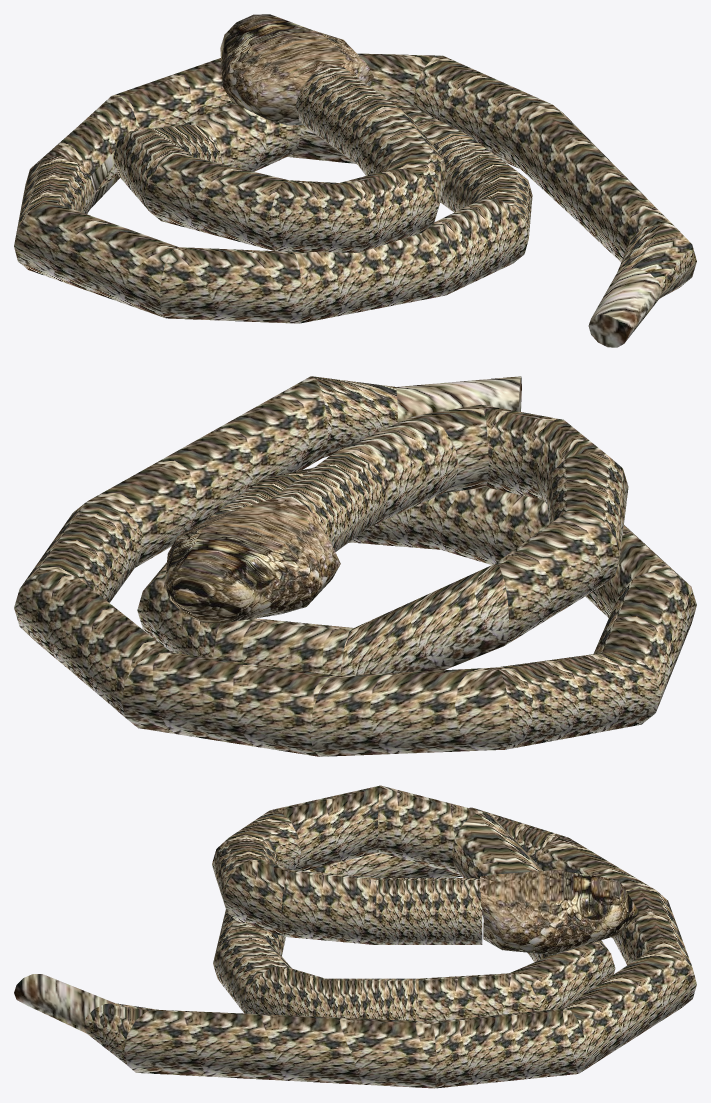
Rendered from snake.fbx.
3 views of the same model, one above another, from view 1: azimuth 30°, elevation 25°; view 2: azimuth 150°, elevation 25°; view 3: azimuth 270°, elevation 25° (orthographic). The views are drawn at different scales.
Visible parts, largest first — view 1: Cylinder12, Cylinder13; view 2: Cylinder12, Cylinder13; view 3: Cylinder12, Cylinder13.
Part boxes in pixels (bbox=[...]): Cylinder12: bbox=[14, 53, 696, 347]; Cylinder13: bbox=[220, 14, 373, 125]; Cylinder12: bbox=[14, 376, 696, 756]; Cylinder13: bbox=[164, 498, 340, 623]; Cylinder12: bbox=[14, 785, 696, 1088]; Cylinder13: bbox=[480, 870, 638, 954].
Bounding box in the file's own units: 4.54 × 1.07 × 5.4.
1 material, 1 textured.
